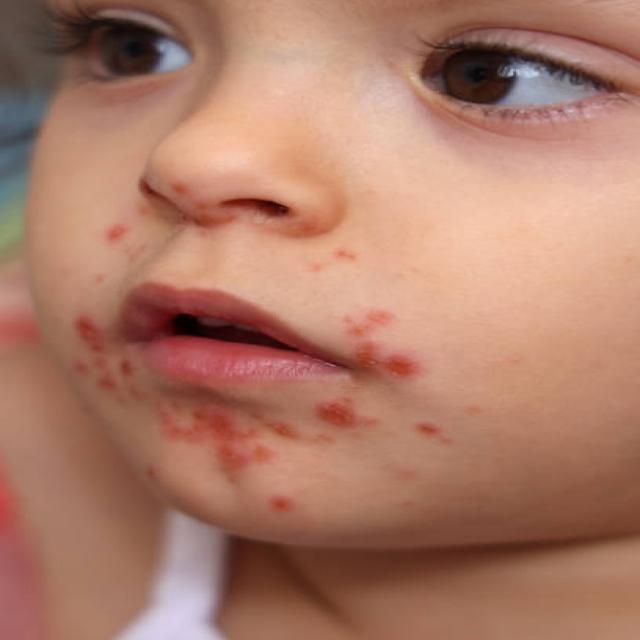Eczema: (66, 224, 456, 518)
